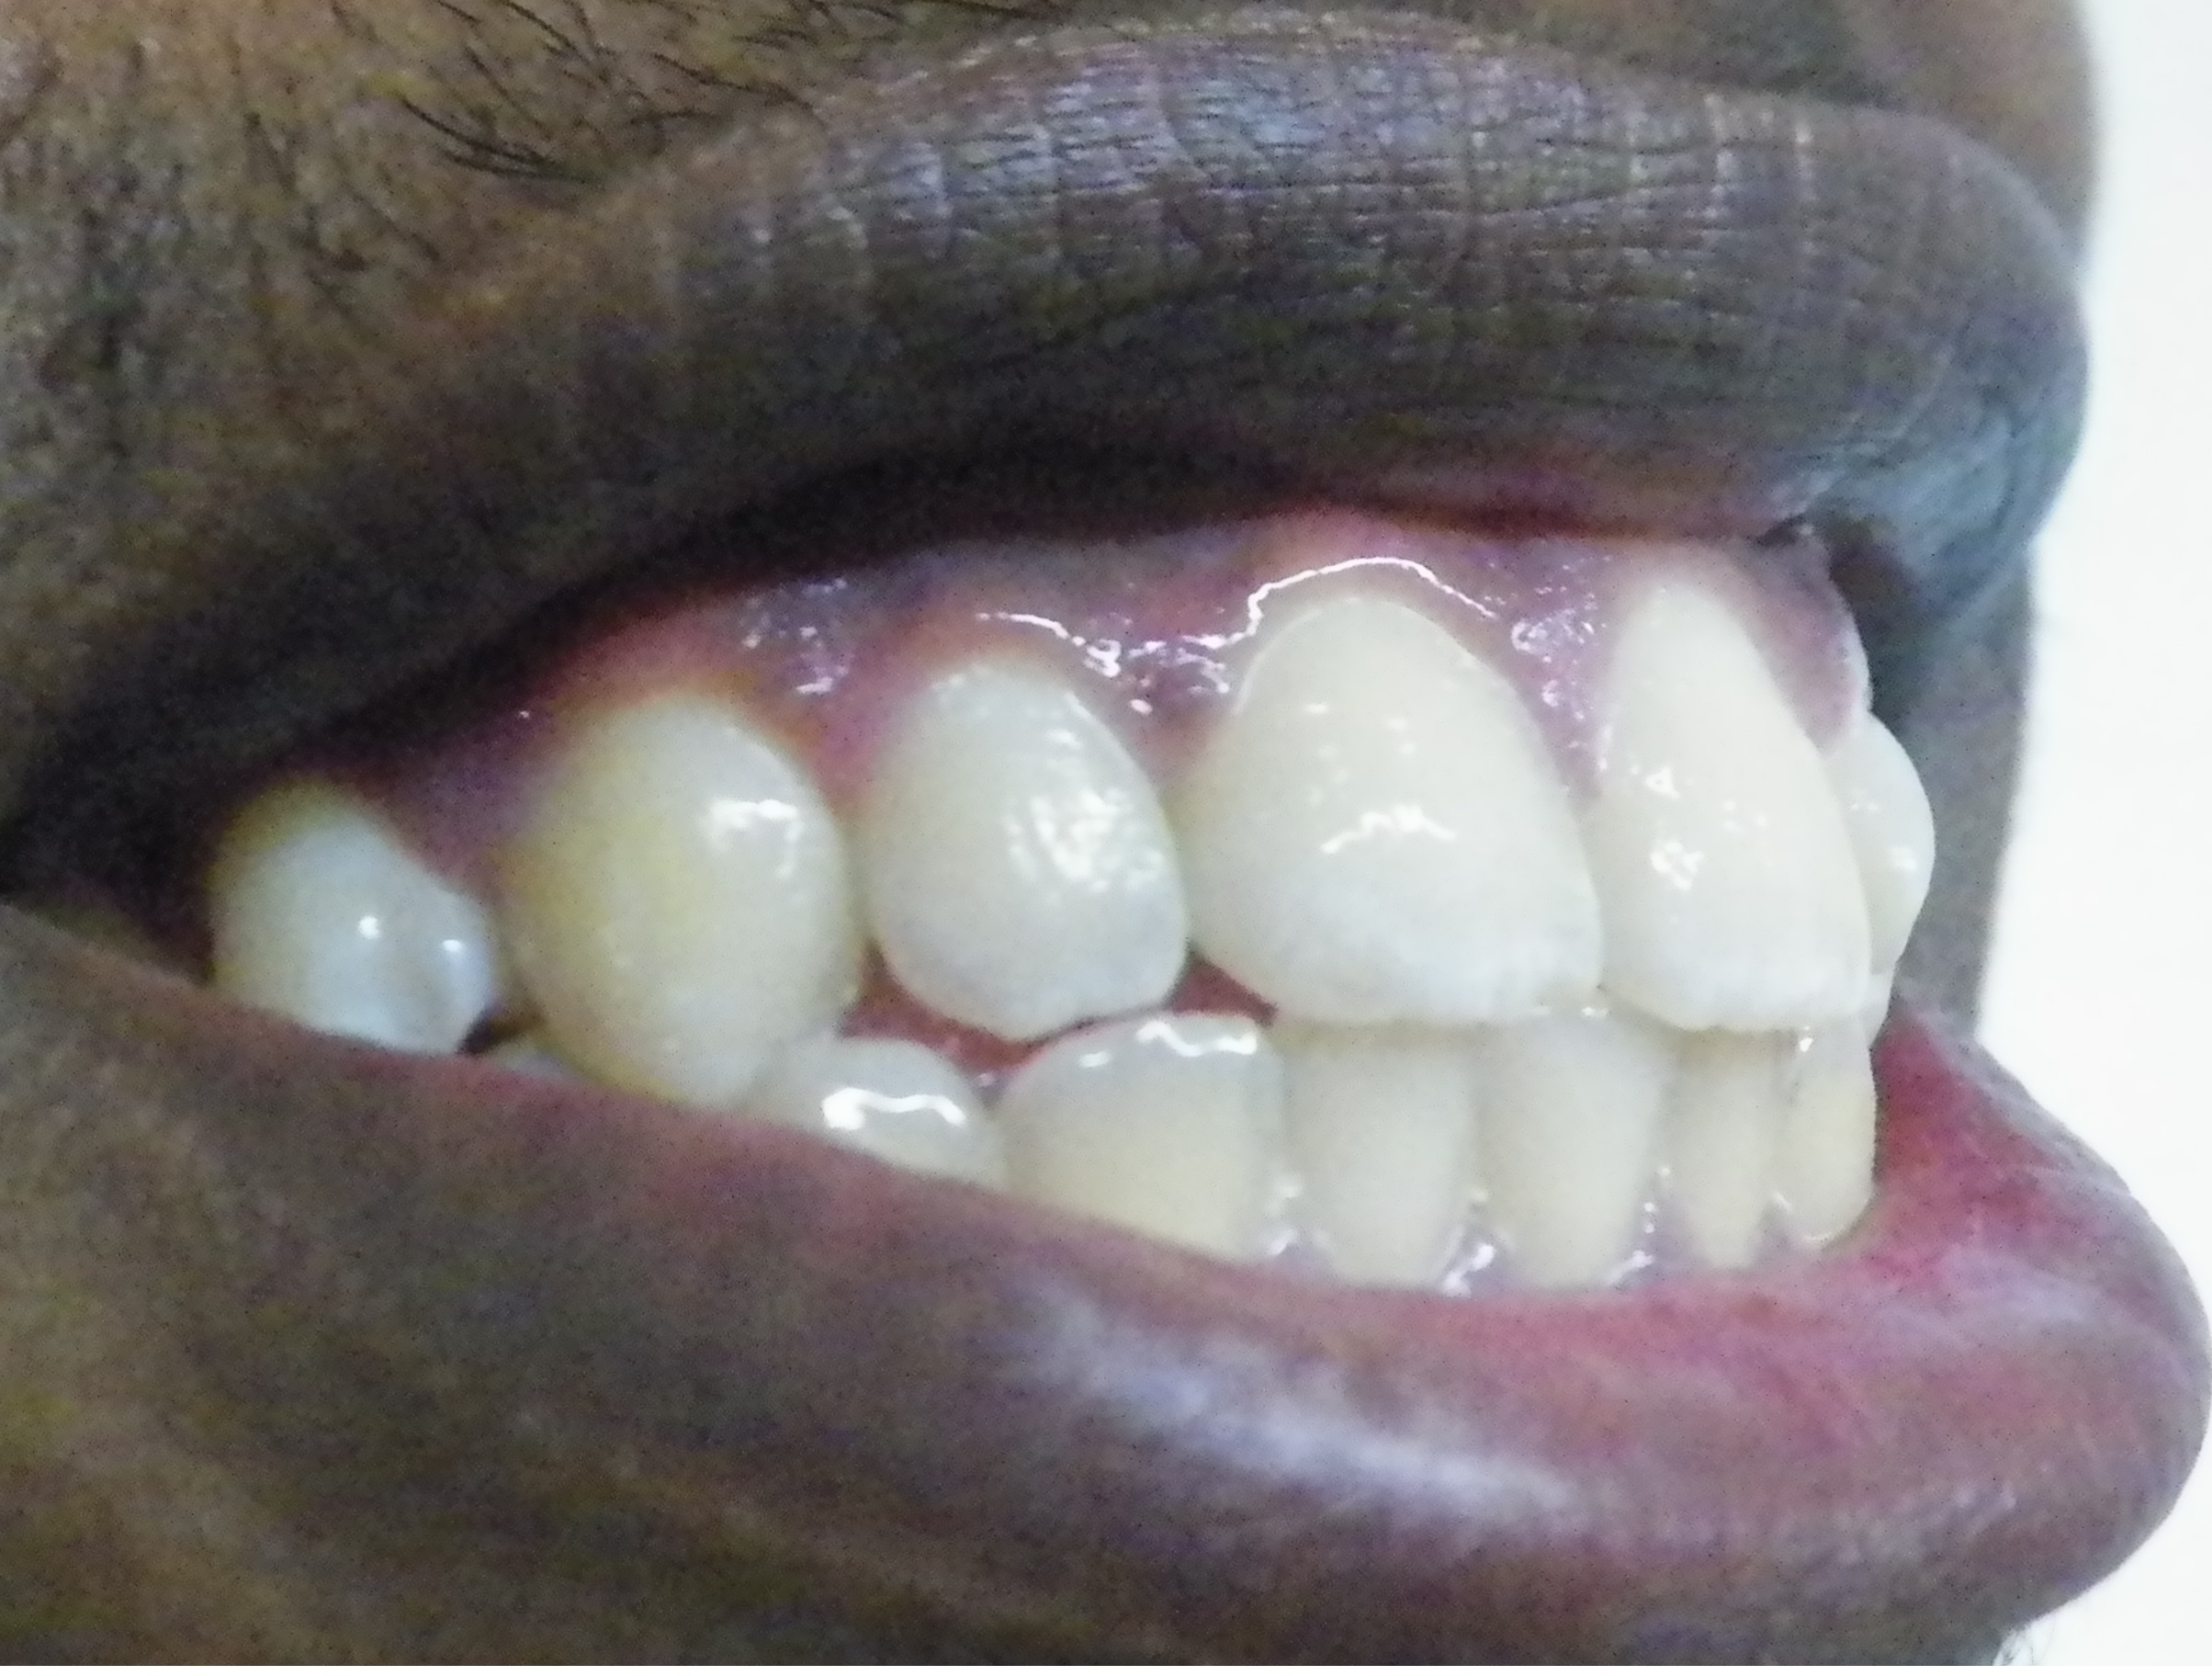boca: (211, 588, 1955, 1294)
